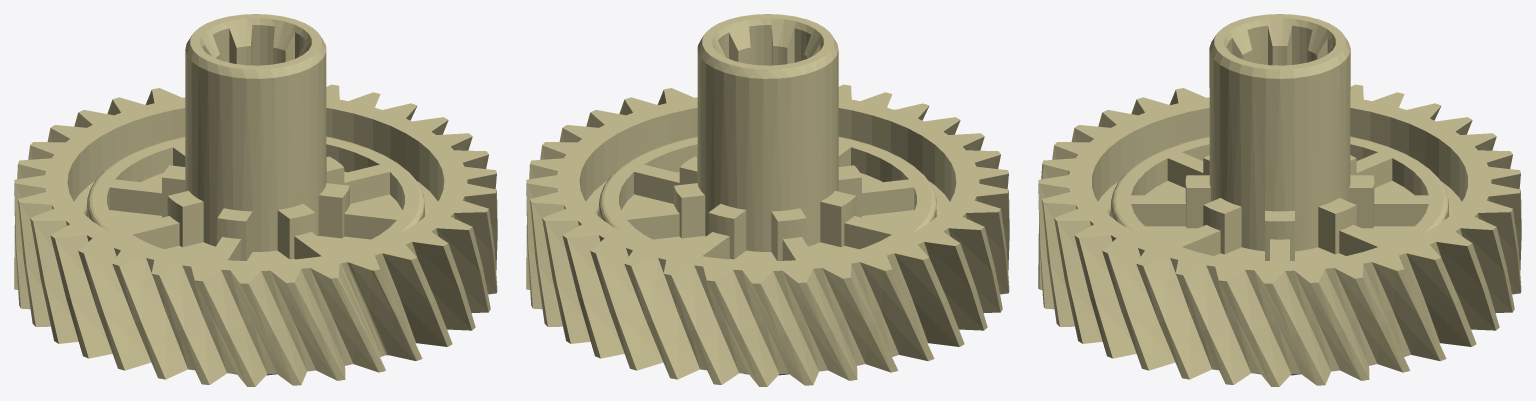
The model's file is Zahnrad.glb.
3 views of the same model, side by side, from view 1: azimuth 30°, elevation 25°; view 2: azimuth 150°, elevation 25°; view 3: azimuth 270°, elevation 25° (orthographic).
Parts seen in each view (by area): view 1: Zahnrad; view 2: Zahnrad; view 3: Zahnrad.
Boxes of the visible parts, x1,y1,x2,y2 form: Zahnrad: (14,14,497,386); Zahnrad: (526,14,1009,386); Zahnrad: (1038,14,1521,386).
Bounding box in the file's own units: 0.0486 × 0.034 × 0.0486.
